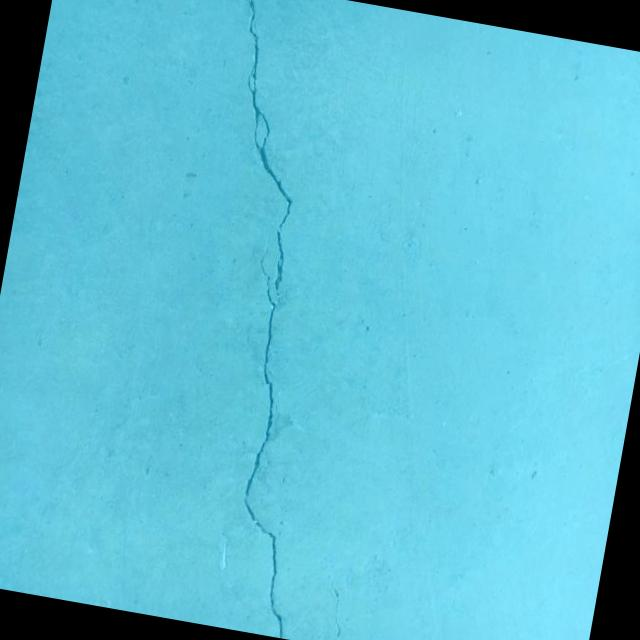crack: (125, 0, 394, 638), (310, 558, 353, 640)
